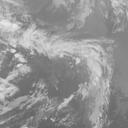cyclone: (30, 32, 101, 91)
